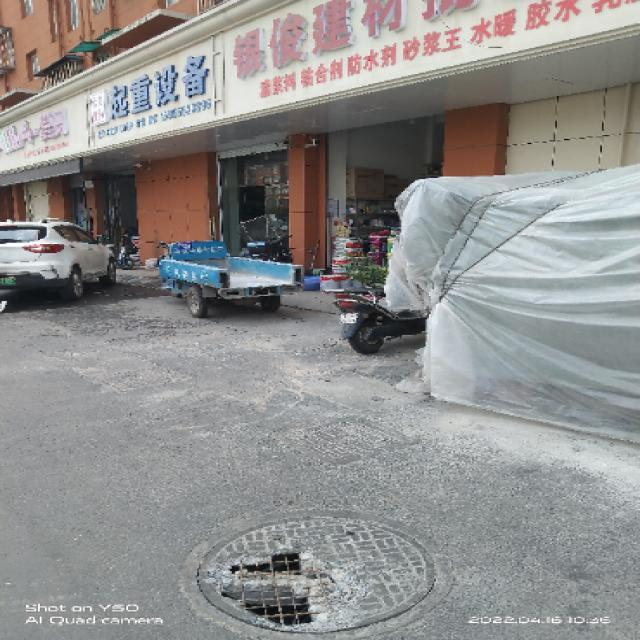Faulty: (175, 511, 453, 636)
